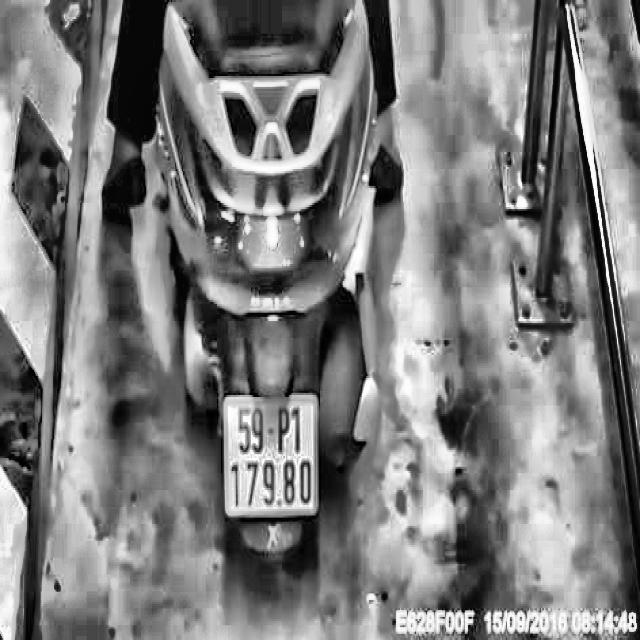plate: (220, 385, 321, 522)
